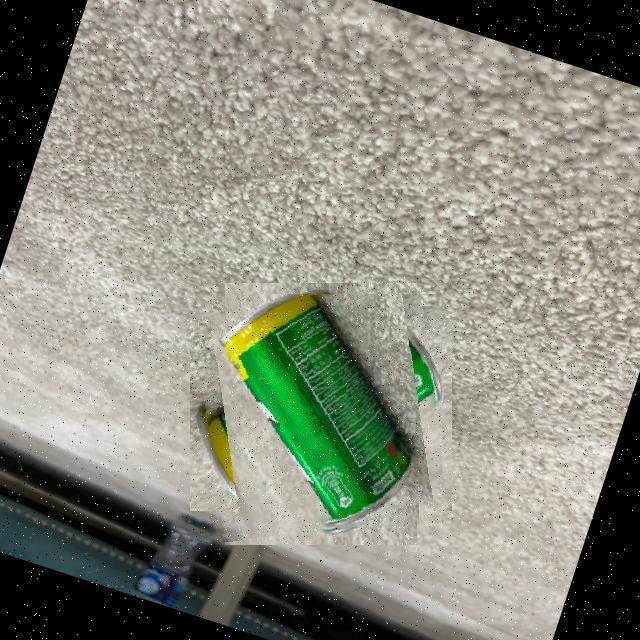recyclable: (200, 294, 442, 535)
